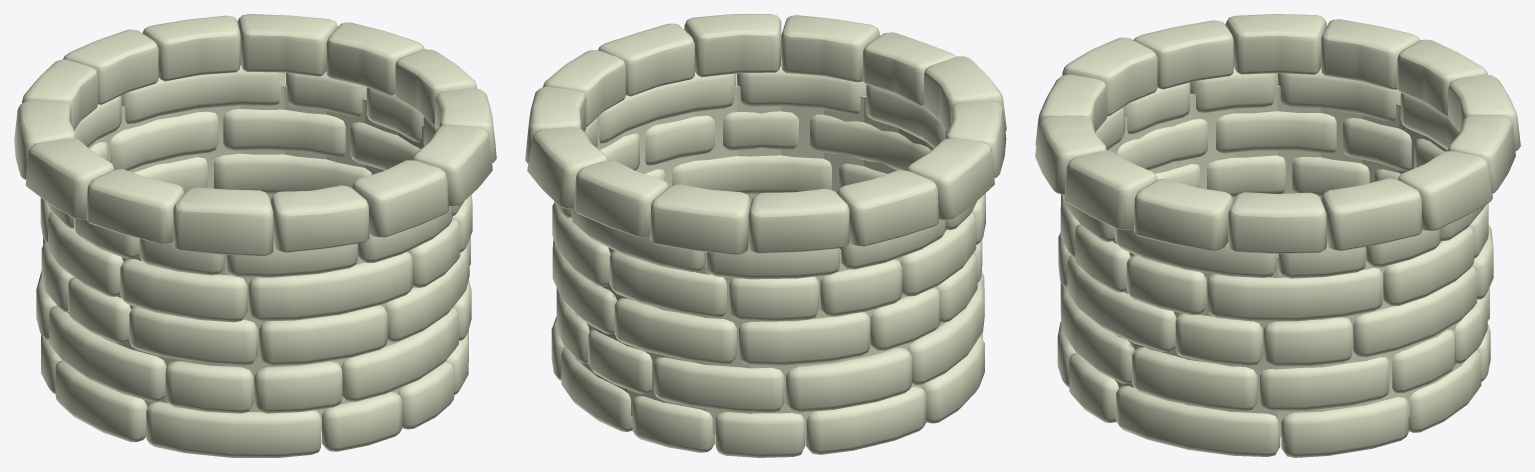
Rendered from Well_base.fbx.
3 views of the same model, side by side, from view 1: azimuth 30°, elevation 25°; view 2: azimuth 150°, elevation 25°; view 3: azimuth 270°, elevation 25° (orthographic).
Parts seen in each view (by area): view 1: Well_Base.001; view 2: Well_Base.001; view 3: Well_Base.001.
Part boxes in pixels (x1,y1,x2,y2): Well_Base.001: (14,14,496,457); Well_Base.001: (525,14,1006,457); Well_Base.001: (1035,14,1520,457).
Bounding box in the file's own units: 166 × 99.53 × 168.
